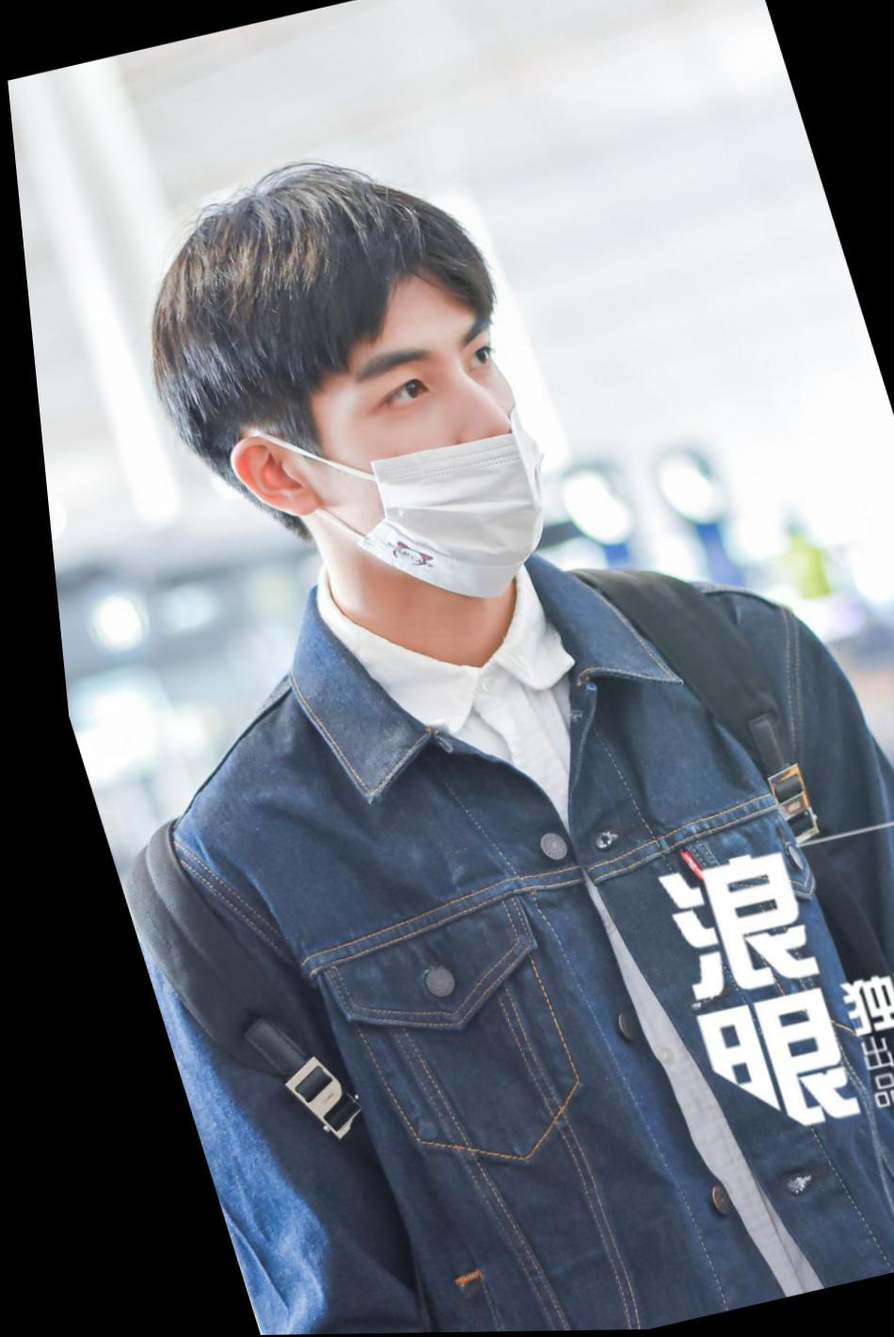WRONG: (267, 279, 566, 619)
